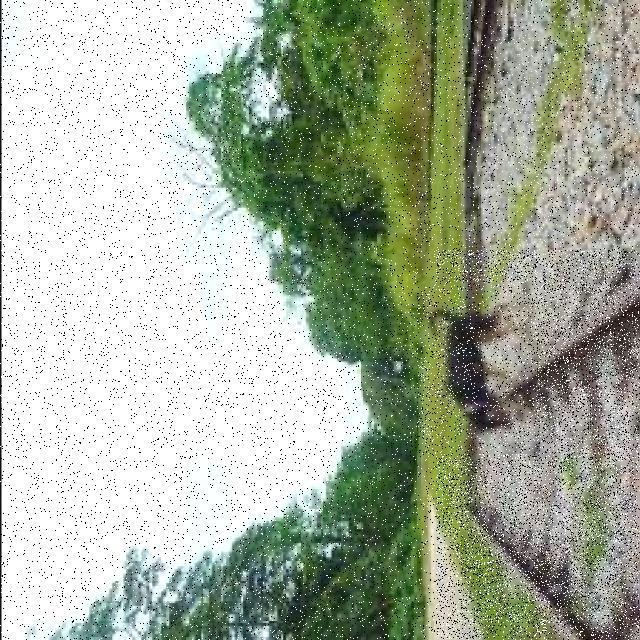danger: (417, 283, 537, 454)
rail: (437, 251, 639, 639)
